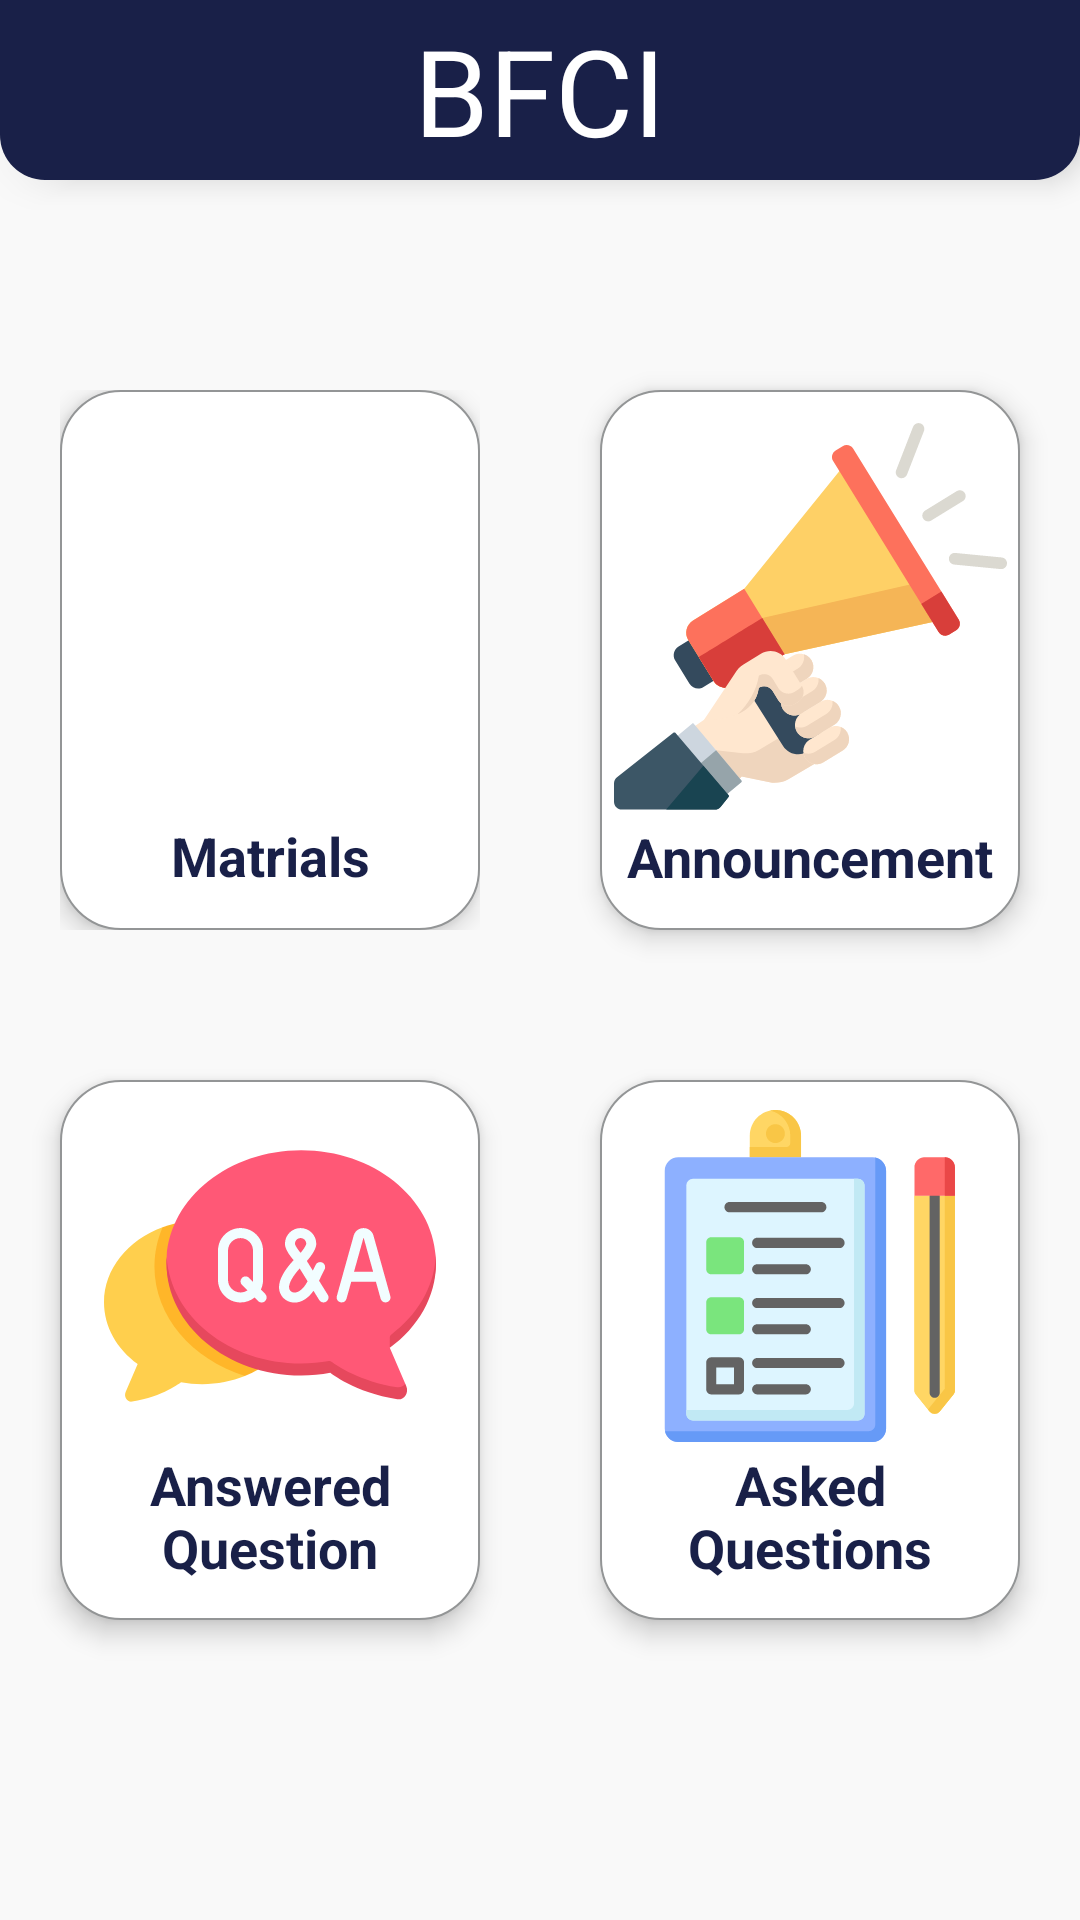

Screen size 1080px×1920px. Icon name, then its box in pixels as (x1, y1, x2, y2):
questionnair: (664, 1110, 955, 1442)
